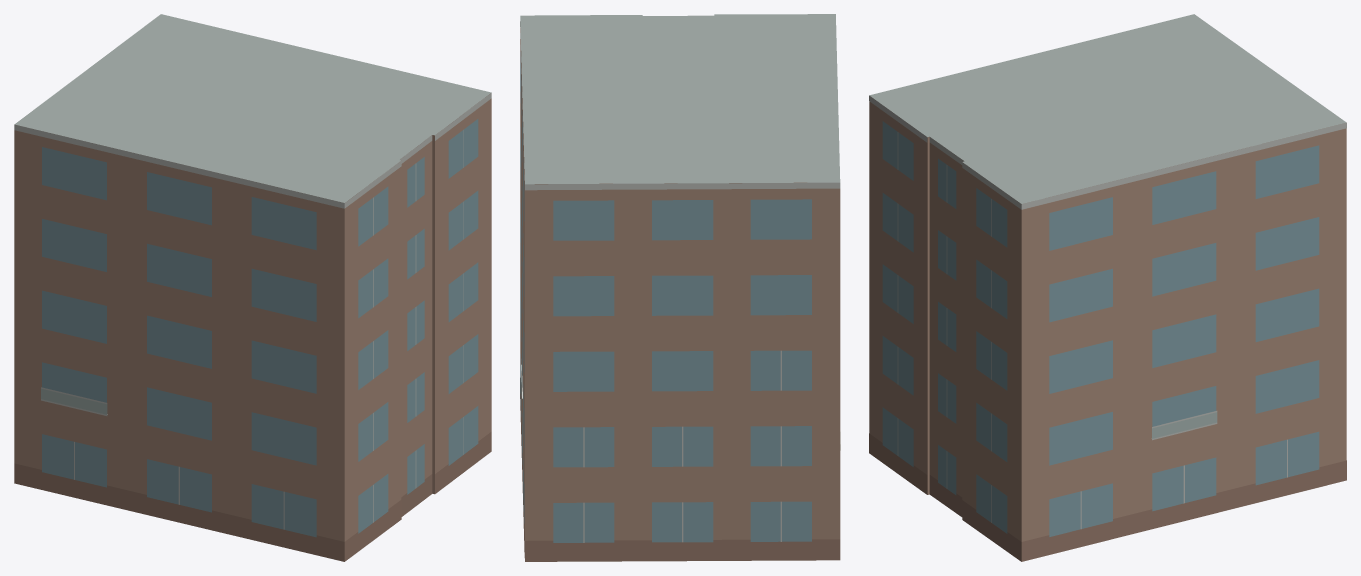
Rendered from survey-upis-32961722.glb.
The picture shows the model from 3 angles, left to right: view 1: azimuth 30°, elevation 25°; view 2: azimuth 150°, elevation 25°; view 3: azimuth 270°, elevation 25°; orthographic projection. The views are drawn at different scales.
Visible parts, largest first — view 1: survey-upis-32961722.tmp; view 2: survey-upis-32961722.tmp; view 3: survey-upis-32961722.tmp.
Boxes of the visible parts, box(x1,y1,x2,y2) form: survey-upis-32961722.tmp: box(14, 14, 491, 561); survey-upis-32961722.tmp: box(520, 14, 840, 561); survey-upis-32961722.tmp: box(869, 14, 1346, 561).
Bounding box in the file's own units: 17.38 × 15.25 × 18.46.
